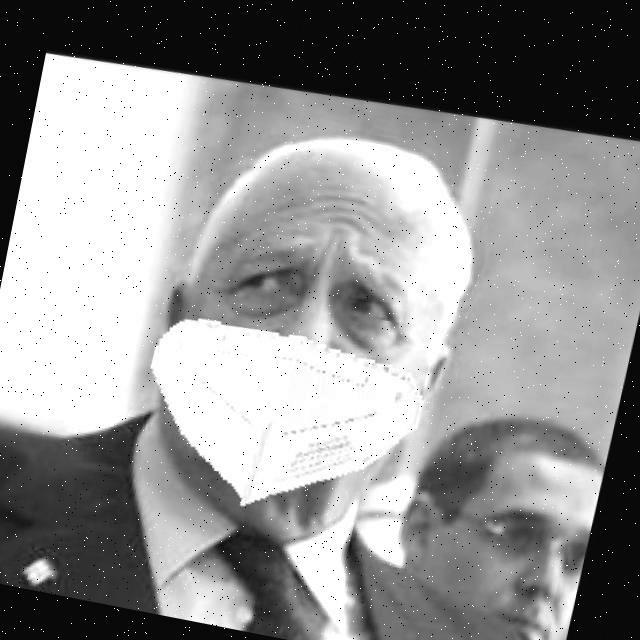mask: (128, 353, 406, 496)
no_gloves: (261, 132, 488, 242), (412, 399, 624, 493)
no_hairnet: (500, 556, 586, 640)
